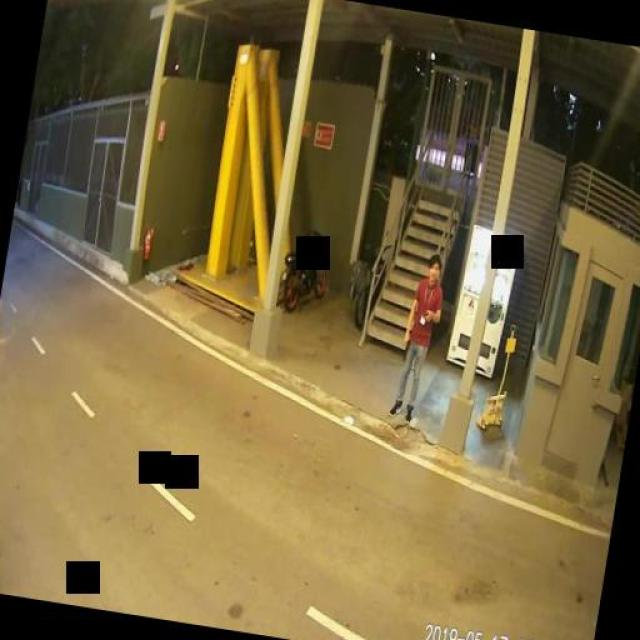gun: (398, 332, 410, 358)
